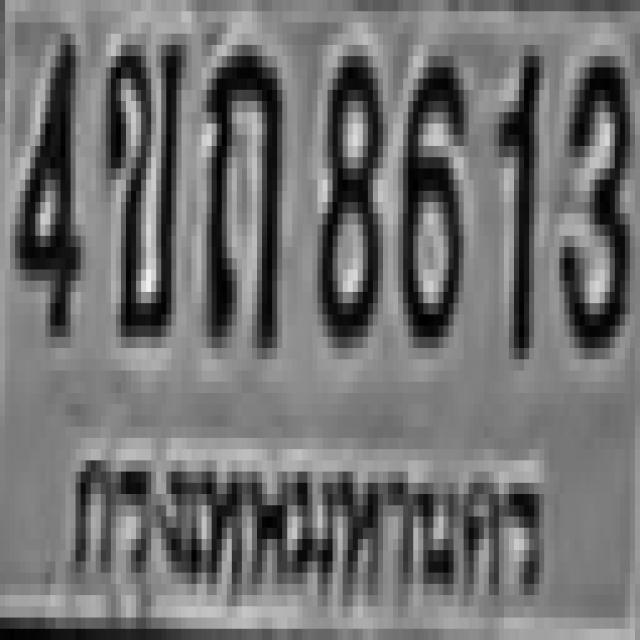1: (494, 45, 539, 348)
11KhorKhai: (101, 34, 181, 326)
3: (554, 45, 625, 337)
31ThorThung: (202, 34, 277, 337)
4: (10, 22, 76, 326)
6: (398, 45, 459, 337)
8: (312, 45, 378, 337)
Bangkok: (61, 410, 556, 626)
